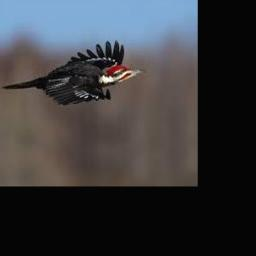Woodpecker: (3, 40, 147, 105)
